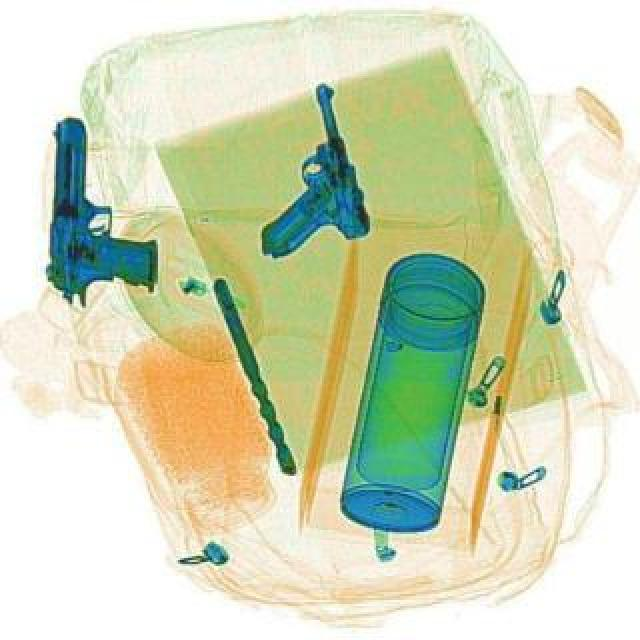gun: (220, 78, 376, 262), (46, 114, 158, 306)
